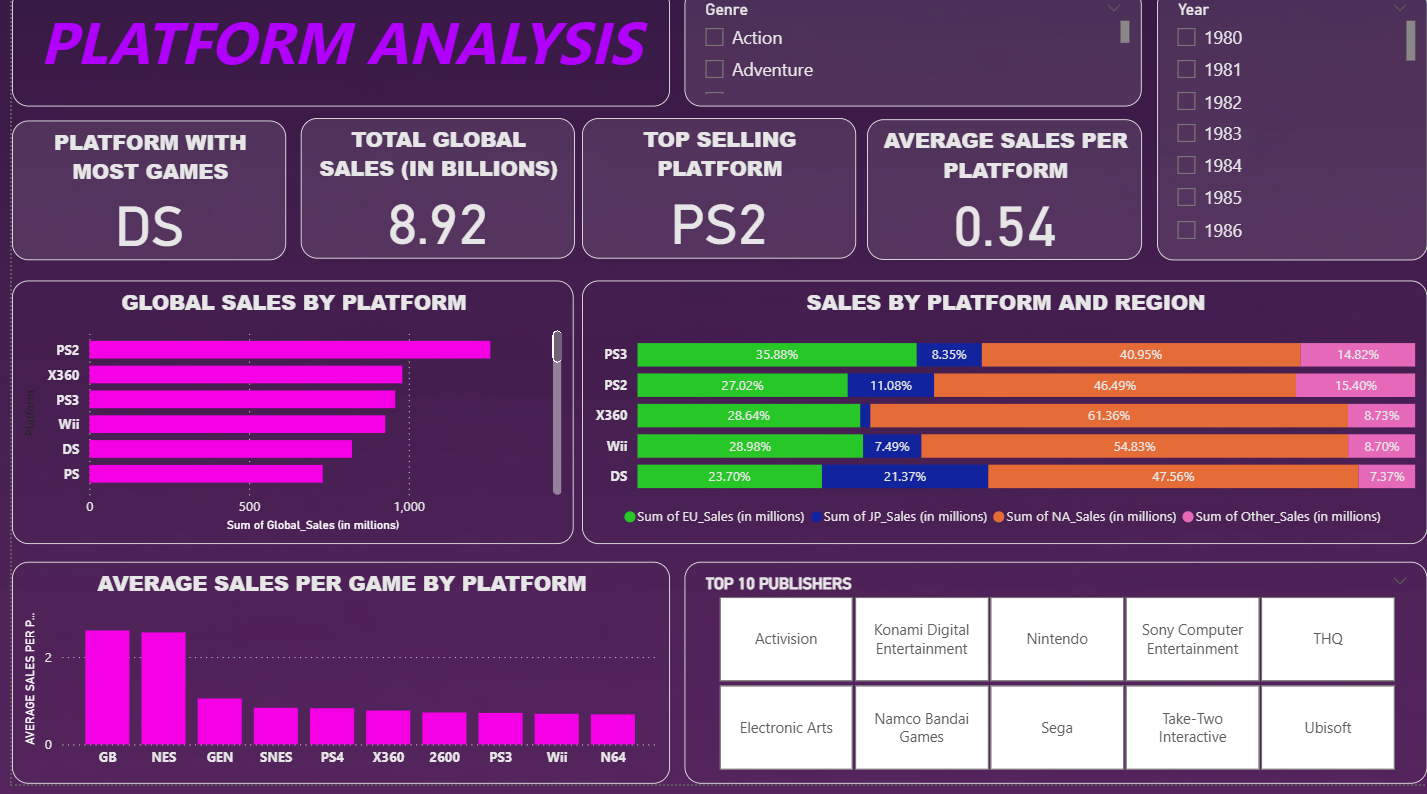

This screenshot's page, from the dashboard's own definition file:
{"tool":"powerbi","page":{"name":"Page 2","canvas":[1280,720],"ordinal":1},"visuals":[{"type":"card","title":"PLATFORM WITH MOST GAMES","fields":{"Values":["vgsales.MOST GAMES PLATFORM"]},"box":[0,119.4,248.4,126.2],"z":0},{"type":"card","title":"TOP SELLING PLATFORM","fields":{"Values":["vgsales.TOP SELLING PLATFORM"]},"box":[515.6,117.3,247.7,127.5],"z":1000},{"type":"card","title":"AVERAGE SALES PER PLATFORM","fields":{"Values":["vgsales.AVERAGE SALES PER PLATFORM"]},"box":[773.4,118.8,249.1,127.5],"z":2000},{"type":"barChart","title":"GLOBAL SALES BY PLATFORM","fields":{"Y":["Sum(vgsales.Global_Sales (in millions))"],"Category":["vgsales.Platform"]},"box":[0,265.1,508.1,238.4],"z":3000},{"type":"card","title":"TOTAL GLOBAL SALES (IN BILLIONS)","fields":{"Values":["vgsales.TOTAL_GLOBAL_SALES"]},"box":[260.7,117.3,247.7,127.5],"z":4000},{"type":"hundredPercentStackedBarChart","title":"SALES BY PLATFORM AND REGION","fields":{"Category":["vgsales.Platform"],"Y":["Sum(vgsales.EU_Sales (in millions))","Sum(vgsales.JP_Sales (in millions))","Sum(vgsales.NA_Sales (in millions))","Sum(vgsales.Other_Sales (in millions))"]},"box":[515.1,265.1,765.1,238.4],"z":5000},{"type":"lineStackedColumnComboChart","title":"AVERAGE SALES PER GAME BY PLATFORM","fields":{"Category":["vgsales.Platform"],"Y":["vgsales.AVERAGE SALES PER PLATFORM"]},"box":[0,518.5,595.3,201],"z":6000},{"type":"slicer","fields":{"Values":["vgsales.Year"]},"box":[1035.5,0,244.8,246.2],"z":7000},{"type":"slicer","fields":{"Values":["vgsales.Publisher"]},"box":[608.1,518.5,672.1,201],"z":8000},{"type":"slicer","fields":{"Values":["vgsales.Genre"]},"box":[608.1,0,413.5,107.5],"z":9000},{"type":"textbox","box":[0,0,595.3,107.5],"z":10000}]}

Visuals, with their boxes in screenshot pixels (x1, y1, x2, y2), scaled from the page's 1280x720 canvas onto the 1427x794 screenshot:
"PLATFORM WITH MOST GAMES" card: (x1=0, y1=132, x2=277, y2=271)
"TOP SELLING PLATFORM" card: (x1=575, y1=129, x2=851, y2=270)
"AVERAGE SALES PER PLATFORM" card: (x1=862, y1=131, x2=1140, y2=272)
"GLOBAL SALES BY PLATFORM" barChart: (x1=0, y1=292, x2=566, y2=555)
"TOTAL GLOBAL SALES (IN BILLIONS)" card: (x1=291, y1=129, x2=567, y2=270)
"SALES BY PLATFORM AND REGION" hundredPercentStackedBarChart: (x1=574, y1=292, x2=1426, y2=555)
"AVERAGE SALES PER GAME BY PLATFORM" lineStackedColumnComboChart: (x1=0, y1=572, x2=664, y2=793)
slicer - vgsales.Year: (x1=1154, y1=0, x2=1426, y2=272)
slicer - vgsales.Publisher: (x1=678, y1=572, x2=1426, y2=793)
slicer - vgsales.Genre: (x1=678, y1=0, x2=1139, y2=119)
textbox: (x1=0, y1=0, x2=664, y2=119)
